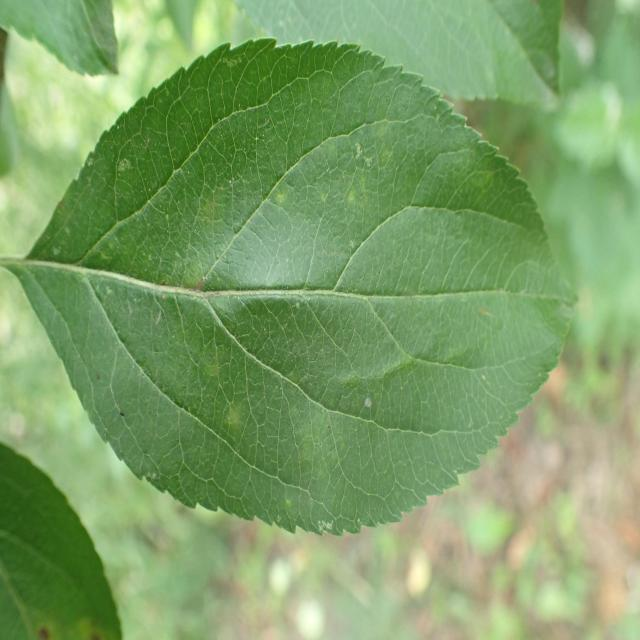scab: (53, 153, 558, 491)
